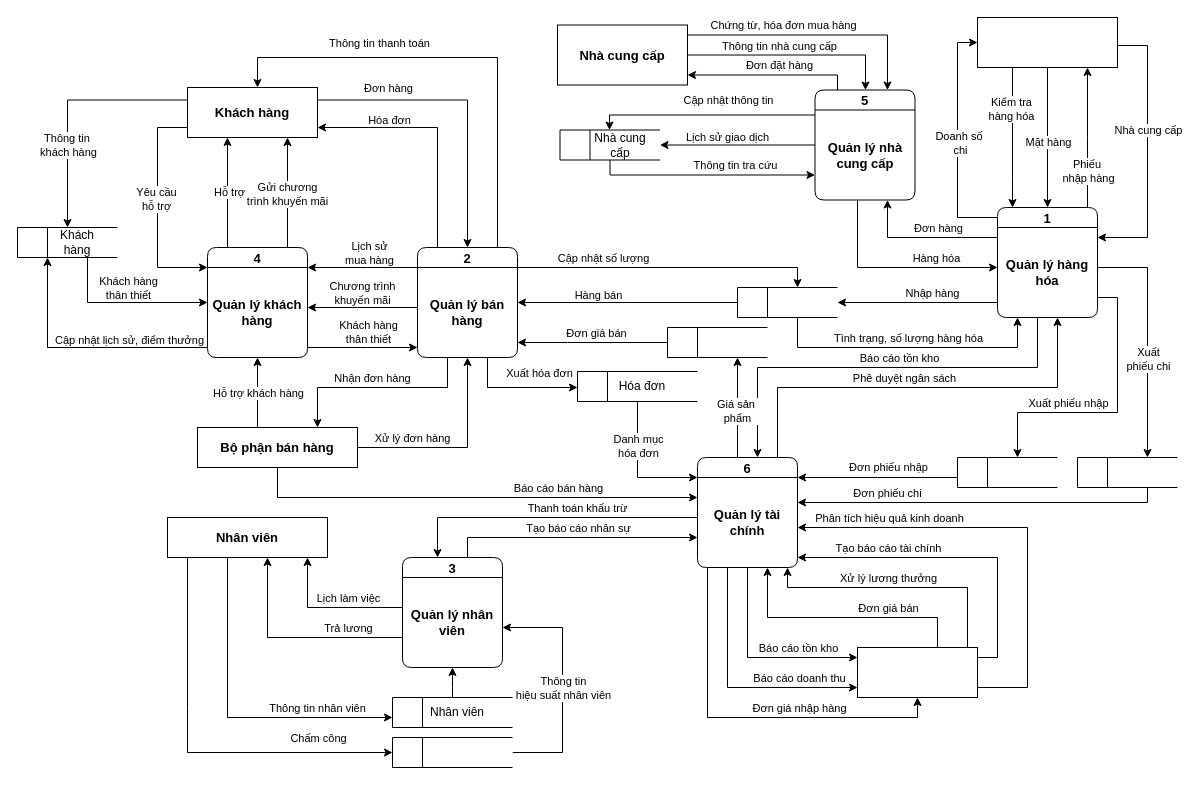
This 1199x785 diagram has some shape labels left out. The shapes that lost their labels are listed below. From the top down, each one's box as (x1, y1, x2, y2) in pixels, then its label:
(976, 16, 1118, 68): Bộ phận nhập hàng
(736, 286, 838, 318): Kho hàng
(666, 326, 768, 358): Bảng giá
(956, 456, 1058, 488): Phiếu nhập
(1076, 456, 1178, 488): Phiếu chi
(856, 646, 978, 698): Bộ phận quản lý
(392, 736, 512, 768): Bảng chấm công
